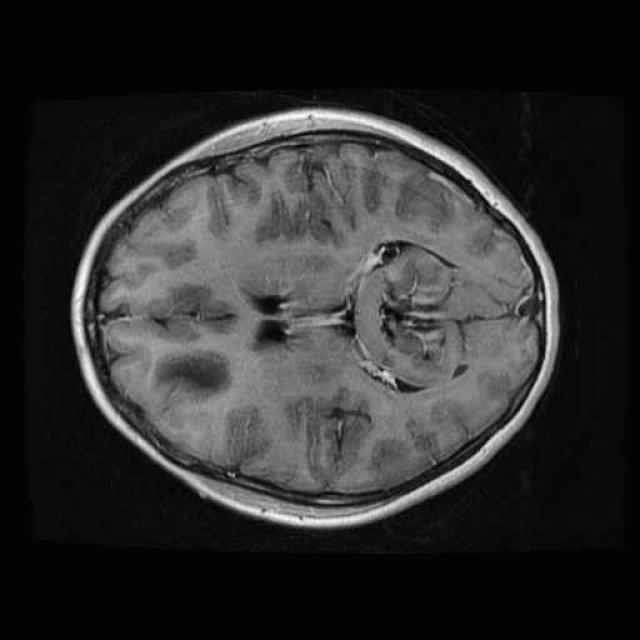Non-Tumor: (145, 339, 240, 408)
